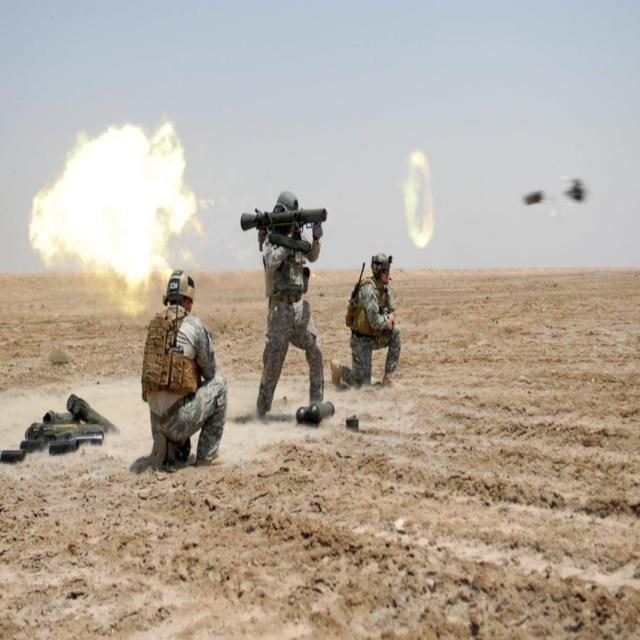bazooka: (239, 200, 337, 240)
